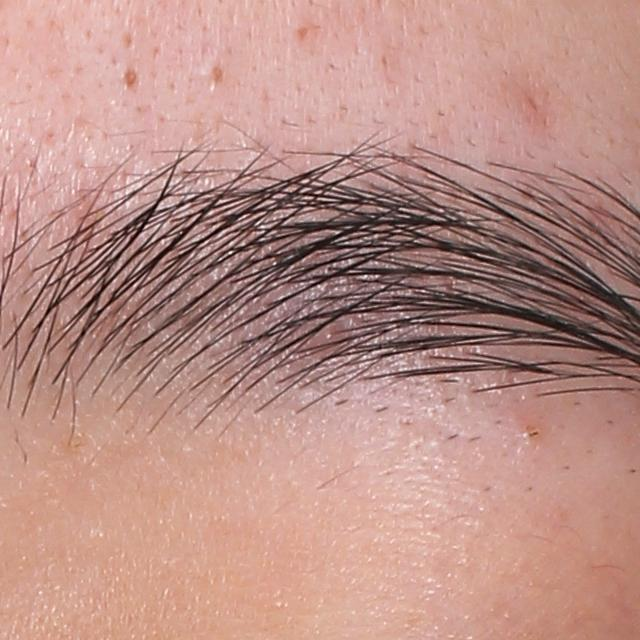comedo: (119, 62, 147, 87), (205, 62, 227, 88)
